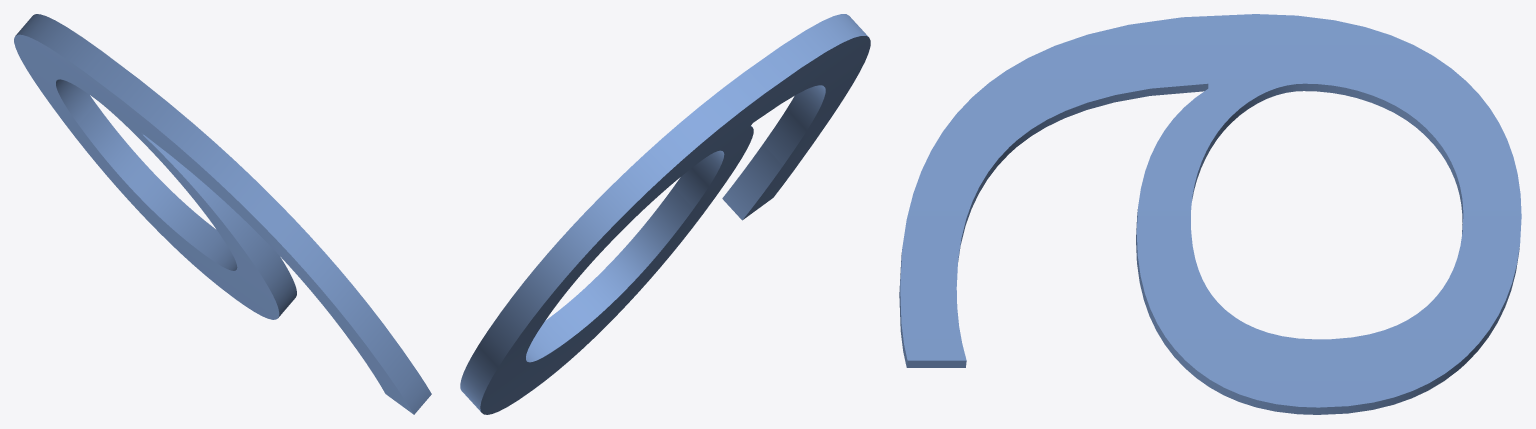
The model's file is New_Number_6.gltf.
3 views of the same model, side by side, from view 1: azimuth 30°, elevation 25°; view 2: azimuth 150°, elevation 25°; view 3: azimuth 270°, elevation 25° (orthographic). The views are drawn at different scales.
Visible parts, largest first — view 1: Part 258; view 2: Part 258; view 3: Part 258.
Boxes of the visible parts, bbox=[...] form: Part 258: bbox=[14, 14, 431, 414]; Part 258: bbox=[460, 14, 870, 414]; Part 258: bbox=[899, 14, 1521, 414].
Bounding box in the file's own units: 0.00216 × 0.0032 × 0.00566.
